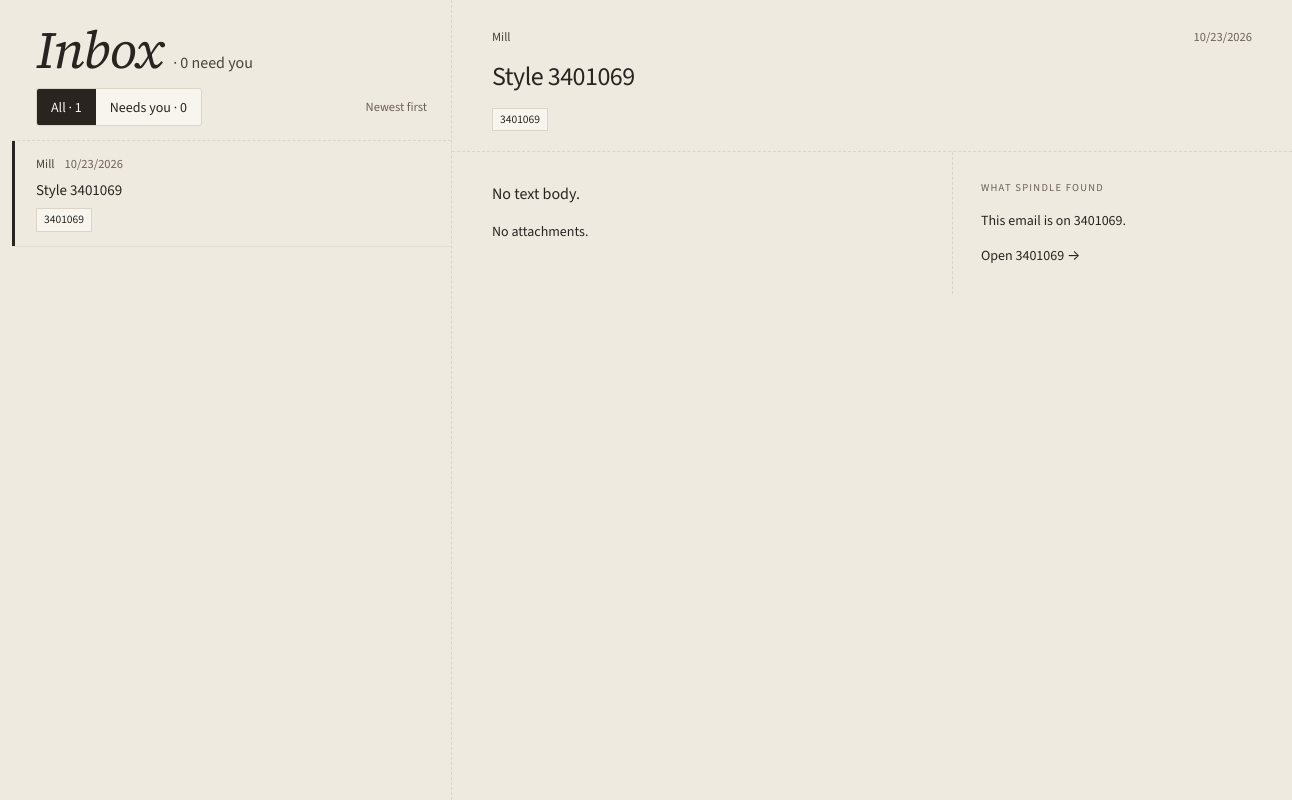
Test case: Inbox › opens a filed style without an add-to-board action
This screenshot has width=1292, height=800.
Expected: the link "Open 3401069" is shown, [981, 246, 1064, 265]
Expected: the option "Mill 10/23/2026 Style 3401069 3401069" is shown, [12, 141, 451, 246]
Click the button "Needs you · 0" at [148, 107], box [96, 89, 201, 125]
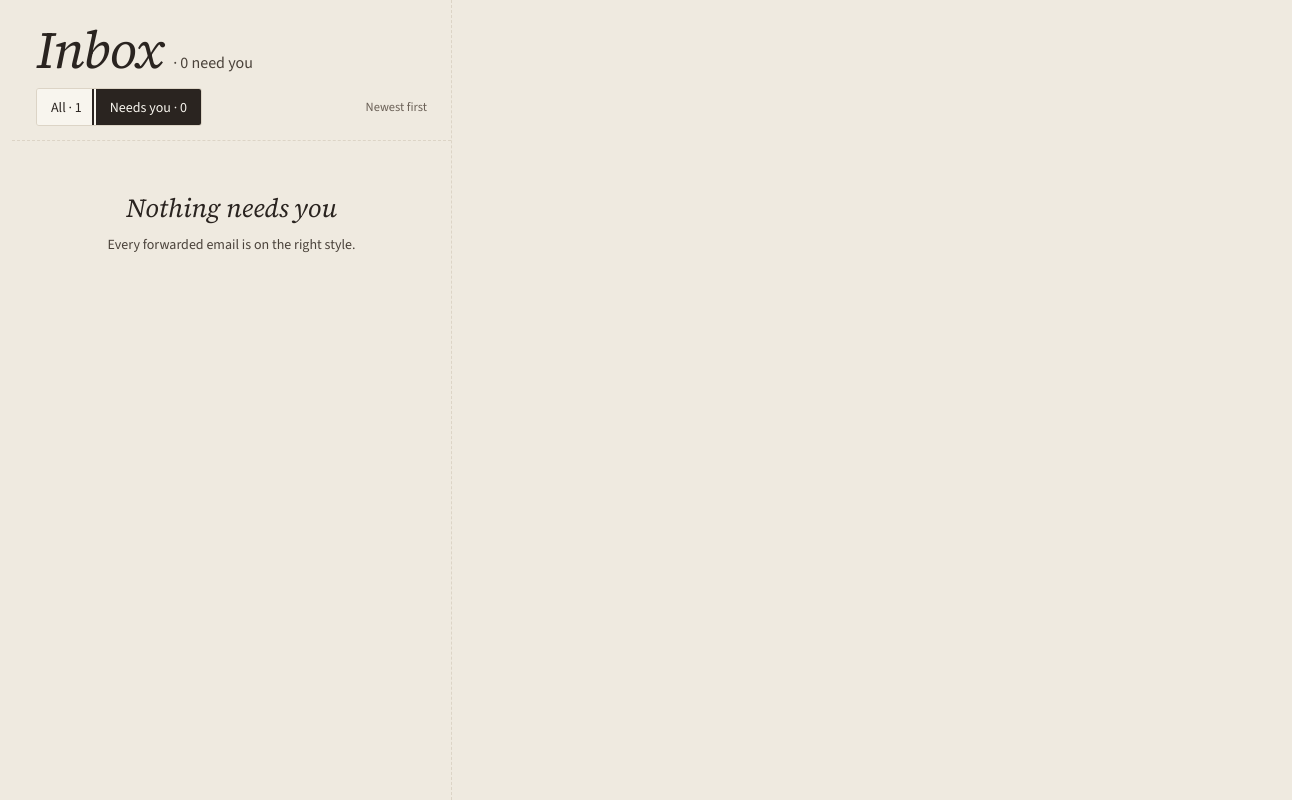
Now the heading "Nothing needs you" is shown, box [126, 190, 337, 226]
Now the text "Every forwarded email is on the right style." is shown, box [108, 235, 355, 254]
